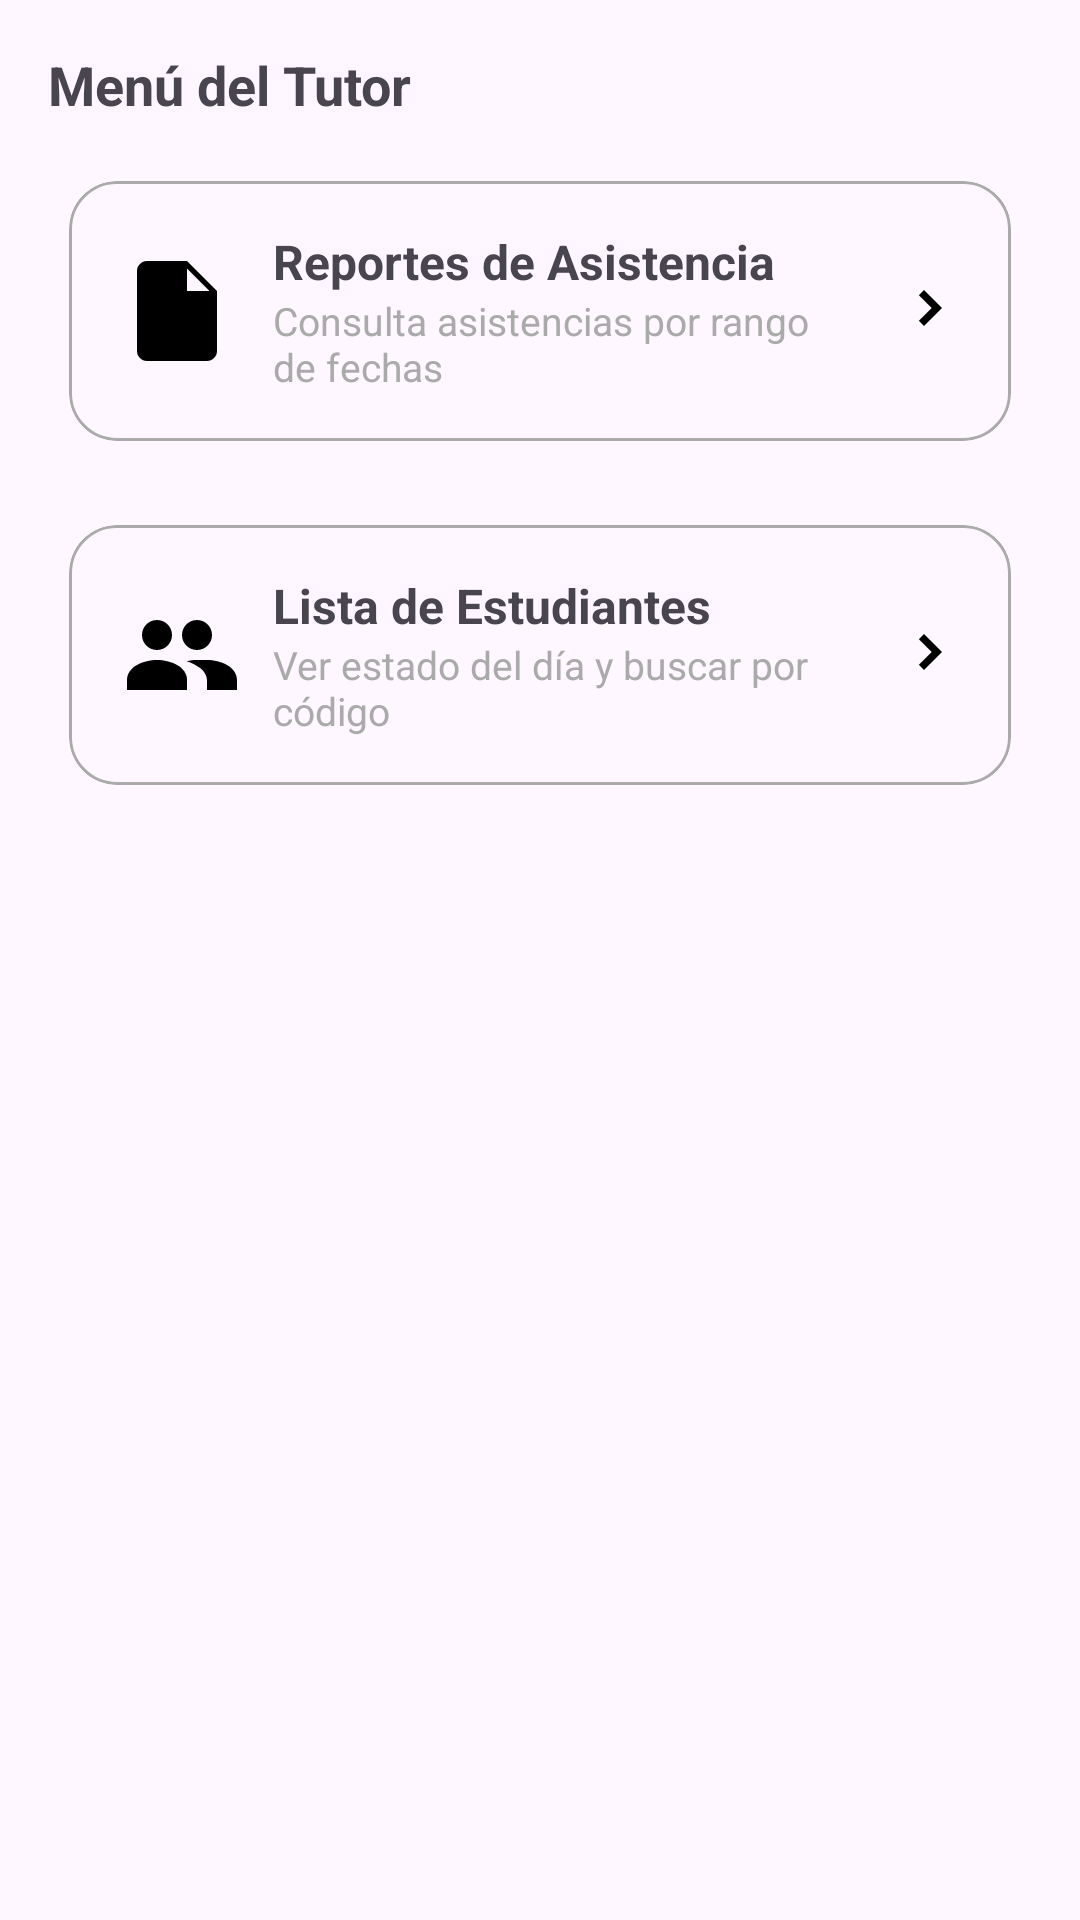

Icon click points for this 1080px×1920px phone screenshot, format (x,y):
chevron right: (930,308), (930,652)
